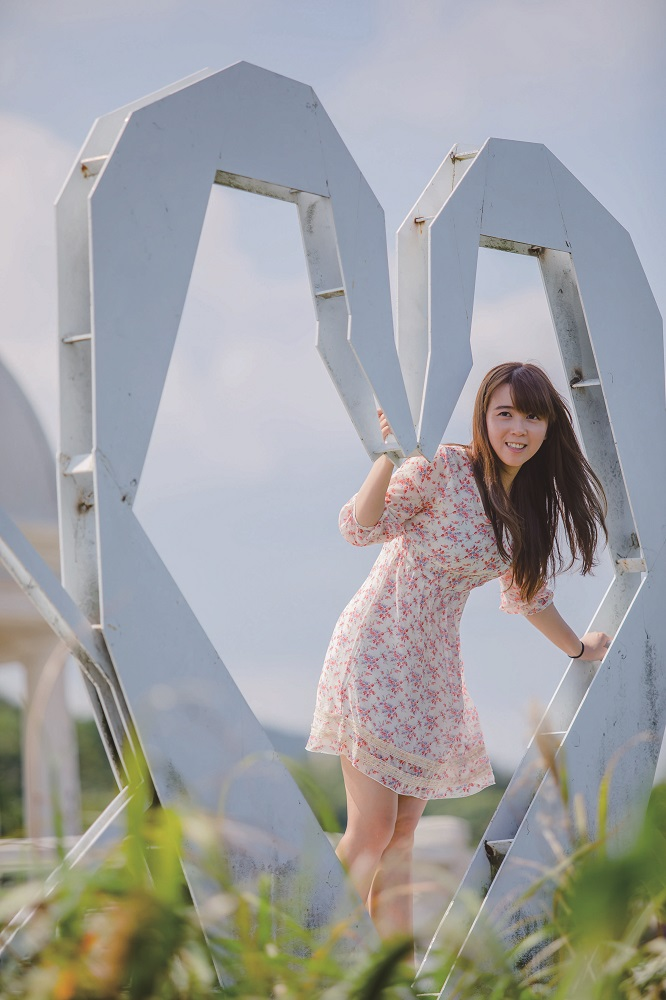people: (301, 366, 611, 955)
